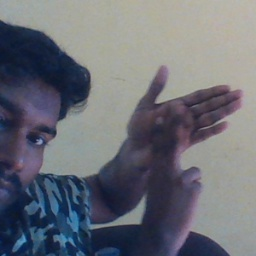N: (122, 63, 244, 199)
